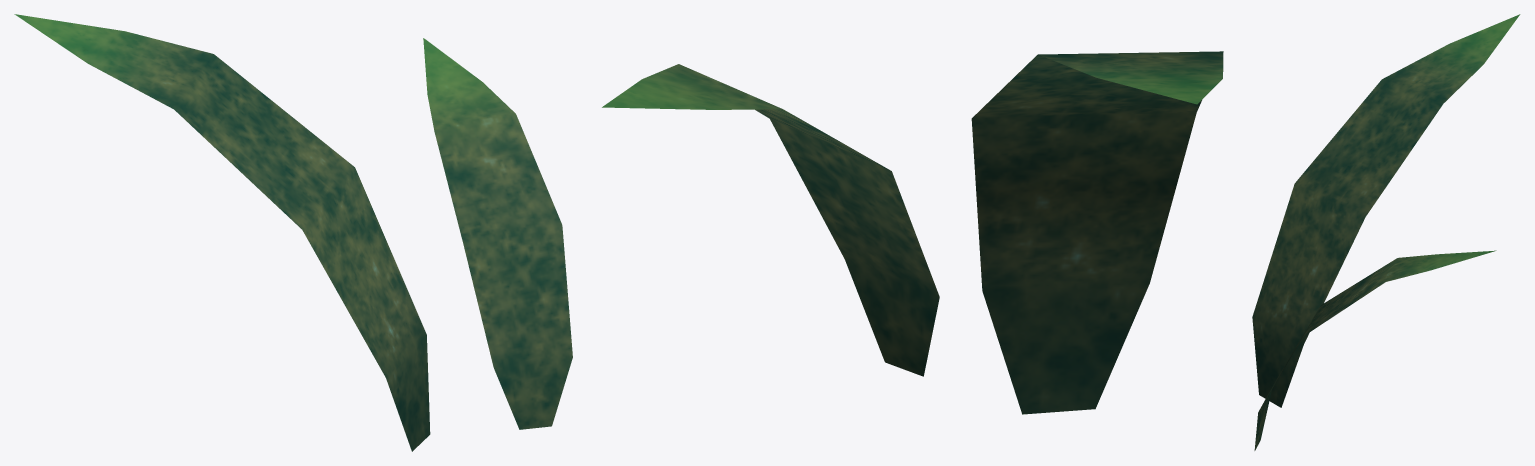
Rendered from SM_Grass_01.fbx.
The picture shows the model from 3 angles, left to right: view 1: azimuth 30°, elevation 25°; view 2: azimuth 150°, elevation 25°; view 3: azimuth 270°, elevation 25°; orthographic projection. The views are drawn at different scales.
Parts seen in each view (by area): view 1: SM_Grass_01, SM_Grass_02; view 2: SM_Grass_01, SM_Grass_02; view 3: SM_Grass_01, SM_Grass_02.
Part boxes in pixels (x1=…): SM_Grass_01: x1=14, y1=14, x2=430, y2=451; SM_Grass_02: x1=423, y1=38, x2=572, y2=429; SM_Grass_01: x1=971, y1=51, x2=1223, y2=414; SM_Grass_02: x1=602, y1=64, x2=939, y2=376; SM_Grass_01: x1=1252, y1=14, x2=1520, y2=407; SM_Grass_02: x1=1254, y1=250, x2=1496, y2=450.
Bounding box in the file's own units: 21.97 × 19.08 × 15.63.
1 material, 1 textured.
